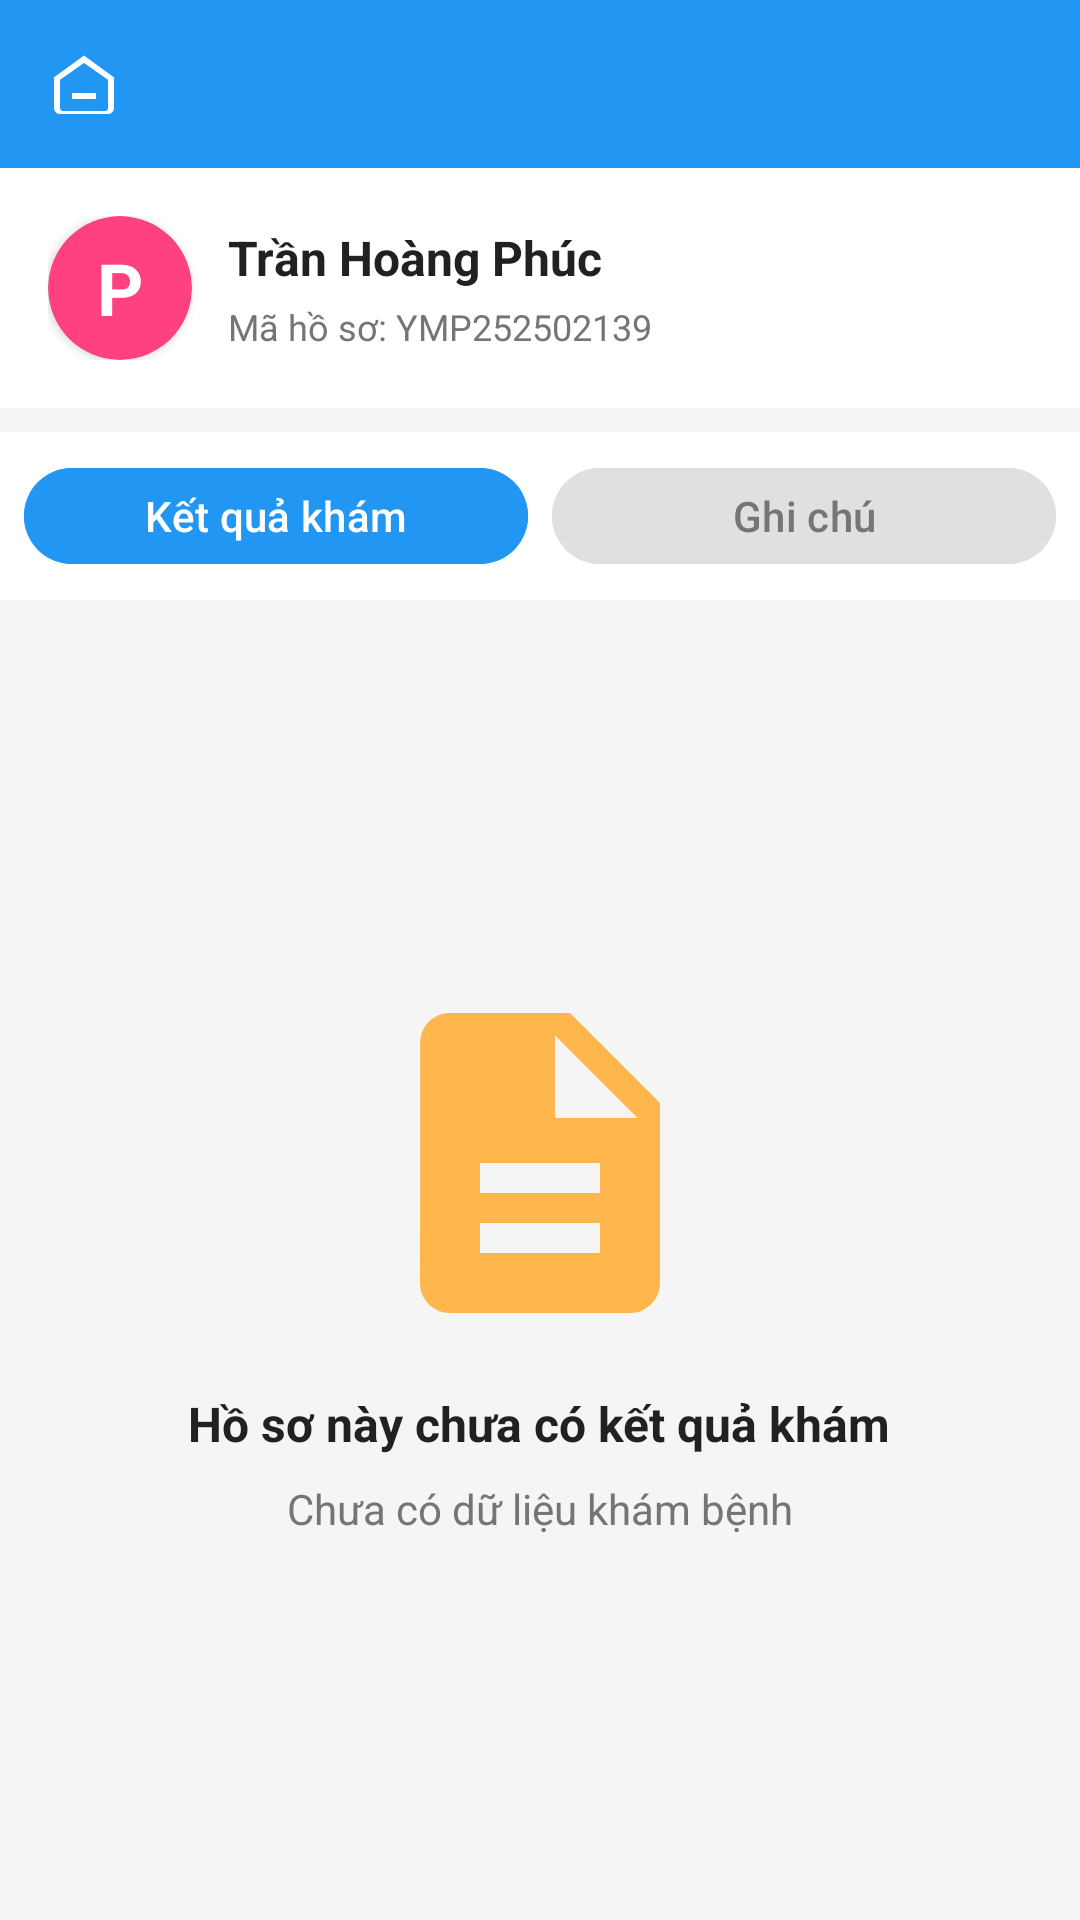

Named icons in this screenshot (1080px x 1920px) and their bounding boxes, (x1, y1, x2, y2):
medical record: (420, 1013, 660, 1313)
